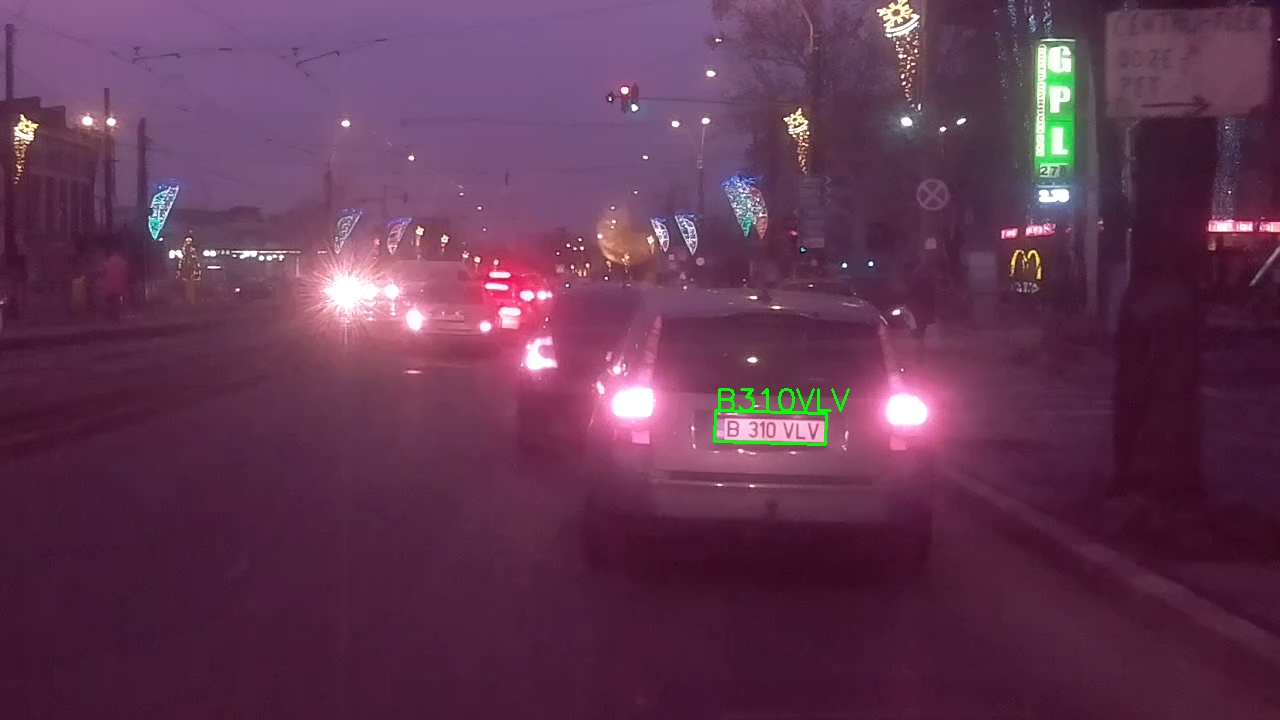license-plate: (714, 410, 827, 445)
